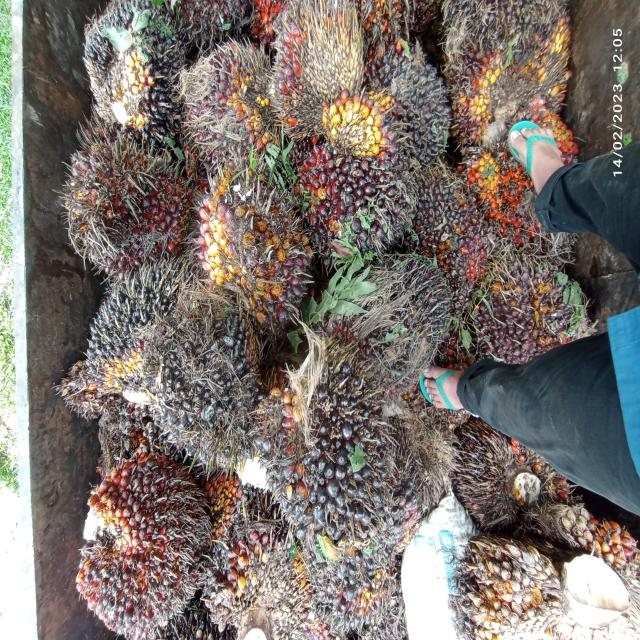fraksi 00: (66, 230, 262, 475), (232, 332, 395, 558), (314, 235, 481, 419), (288, 89, 429, 272), (446, 0, 572, 146), (75, 0, 185, 156), (167, 44, 283, 167), (363, 40, 461, 170)
fraksi 1: (48, 455, 218, 640), (174, 171, 324, 355), (56, 146, 188, 284), (261, 0, 371, 133)
fraksi 4: (457, 98, 581, 269)
